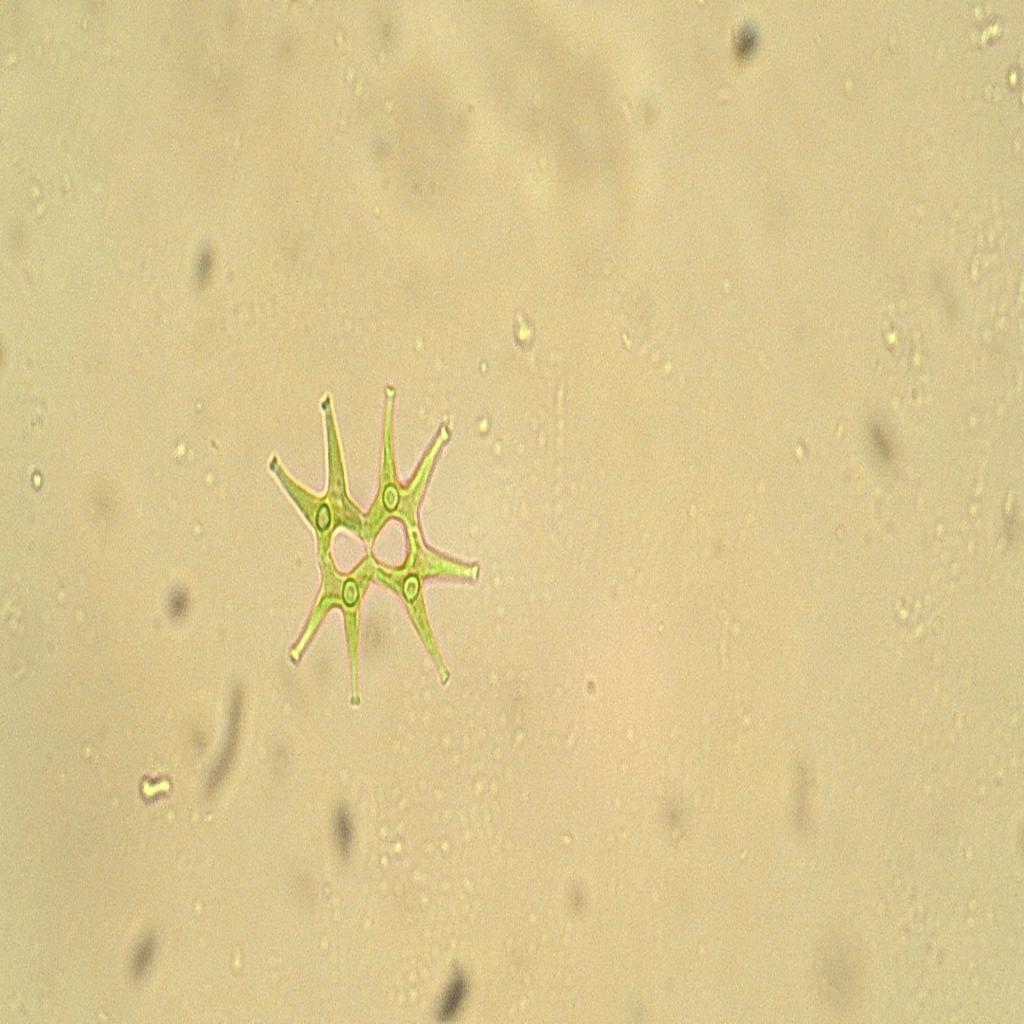Pediastrum_CF: (253, 358, 505, 716)
